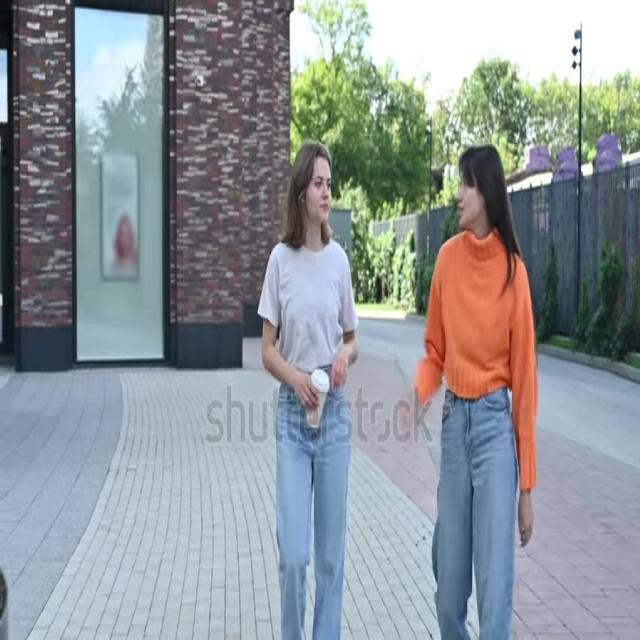human: (401, 146, 541, 640), (259, 148, 366, 638)
trash: (302, 367, 330, 433)
